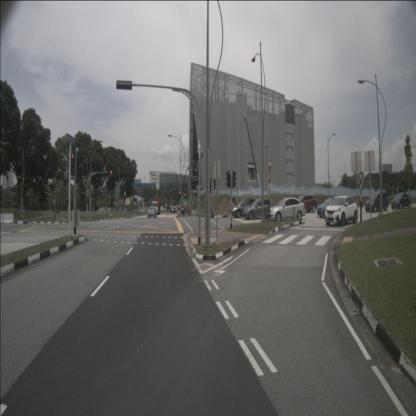vehicle-car: (324, 196, 358, 226), (267, 197, 306, 221), (242, 198, 273, 220), (317, 196, 346, 218), (231, 198, 261, 218), (365, 191, 388, 213), (291, 194, 317, 213), (391, 192, 411, 210), (147, 206, 158, 218)
vehicle-truck: (150, 201, 158, 215)
